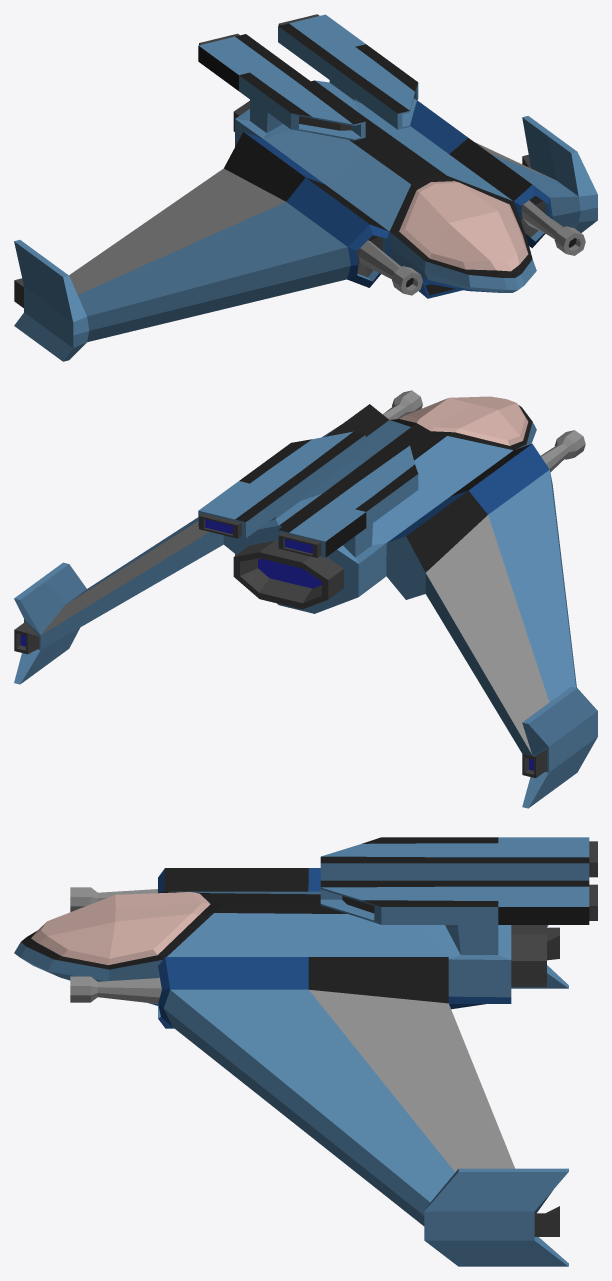
Rendered from FPS enemy Drone.fbx.
The picture shows the model from 3 angles, top to bottom: view 1: azimuth 30°, elevation 25°; view 2: azimuth 150°, elevation 25°; view 3: azimuth 270°, elevation 25°; orthographic projection. The views are drawn at different scales.
Visible parts, largest first — view 1: Cube; view 2: Cube; view 3: Cube.
Part boxes in pixels (x1=…): Cube: x1=14, y1=14, x2=597, y2=361; Cube: x1=14, y1=390, x2=597, y2=808; Cube: x1=14, y1=837, x2=597, y2=1266.
Size of the model in its own units: 374 by 154 by 322.
